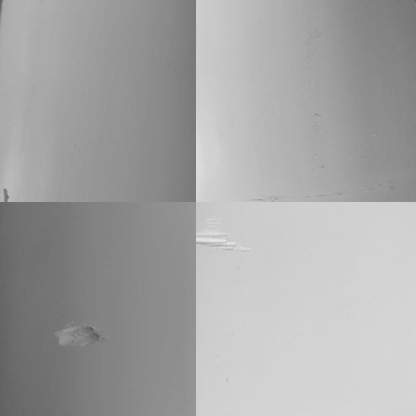sunshang: (196, 224, 252, 255), (53, 321, 105, 351)
